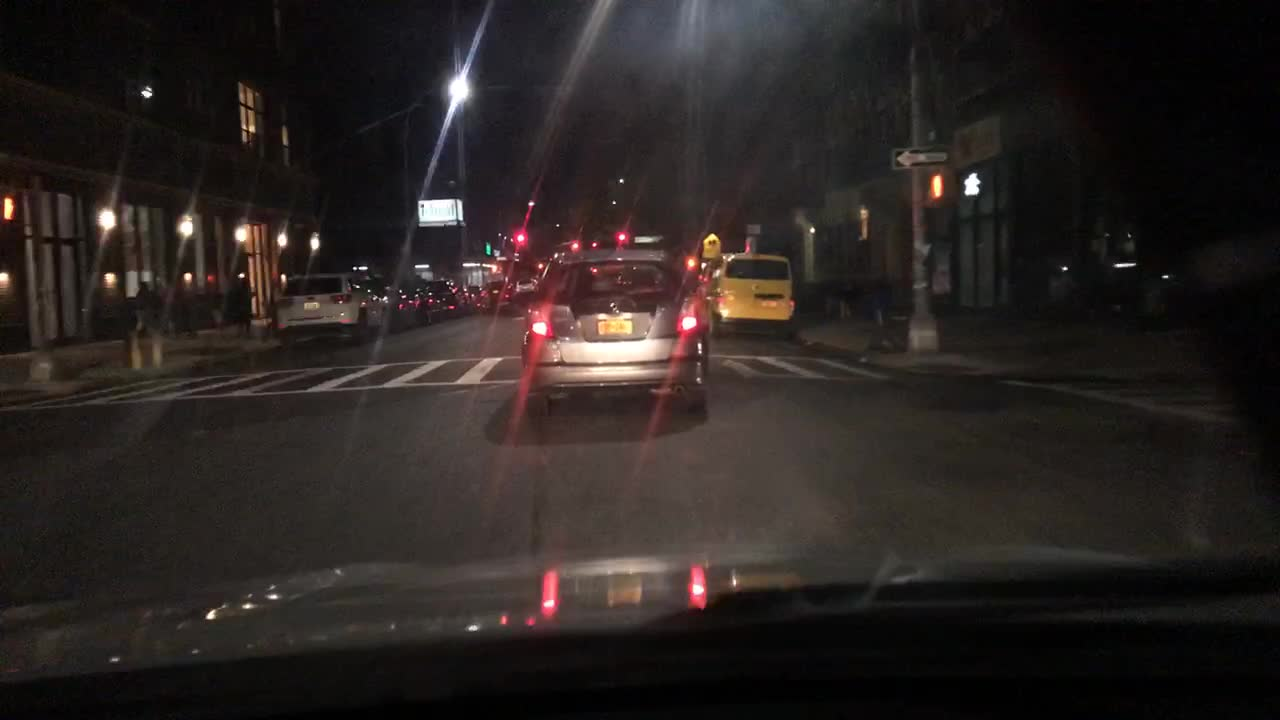car: (518, 242, 707, 426), (272, 262, 384, 345), (706, 238, 792, 338), (391, 283, 433, 333), (415, 280, 468, 319), (465, 282, 496, 315), (514, 269, 539, 296), (496, 282, 519, 310)
person: (171, 284, 196, 339), (132, 275, 152, 335), (236, 277, 251, 334)
traffic light: (964, 164, 984, 201), (927, 168, 945, 206), (2, 191, 19, 218), (511, 226, 529, 245), (744, 221, 765, 236), (613, 229, 633, 241)
traffic sign: (889, 144, 953, 167), (415, 197, 456, 224), (699, 233, 719, 257)
